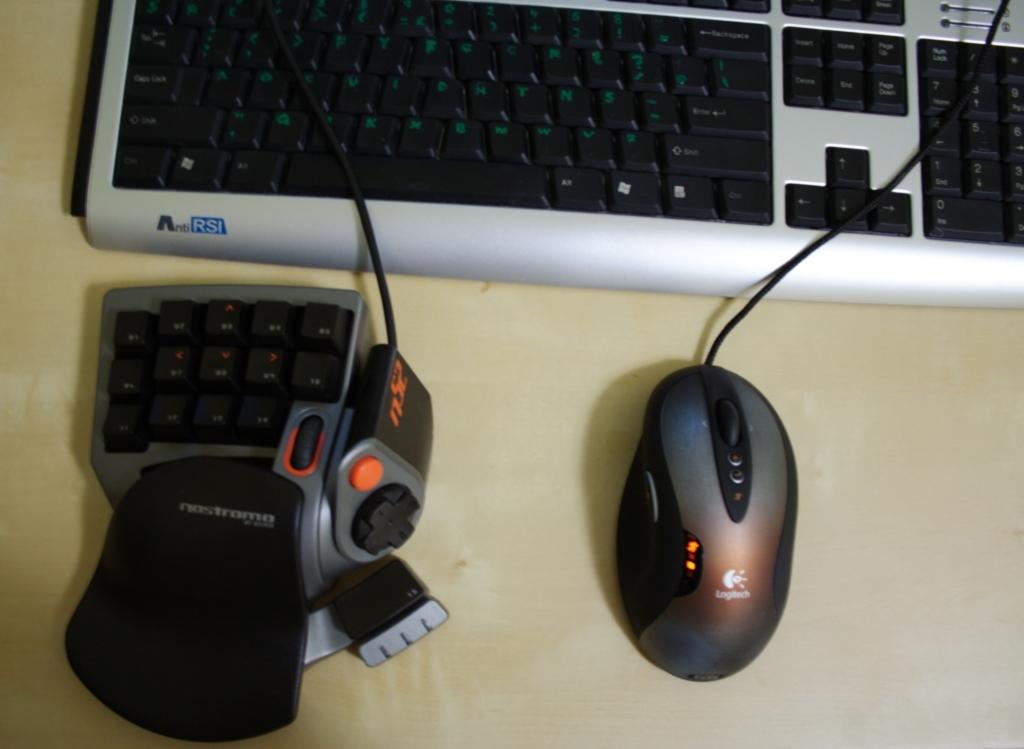Computer-mouse: (613, 364, 798, 687)
